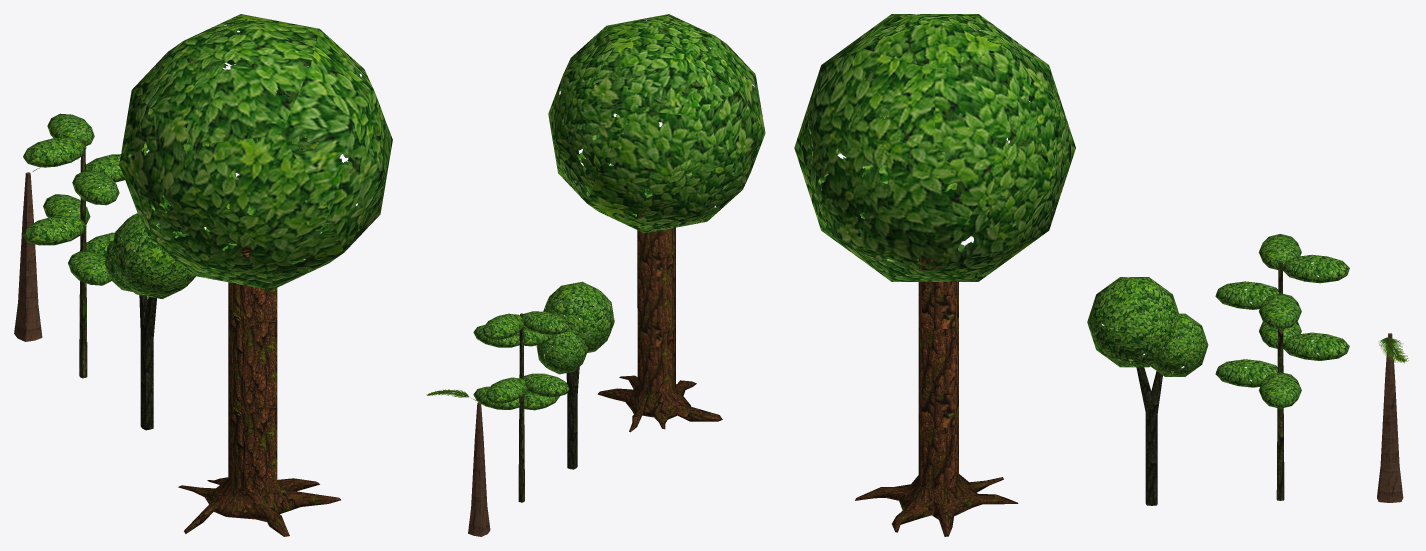
The model's file is props florest 2.fbx.
3 renders of one model, left to right at view 1: azimuth 30°, elevation 25°; view 2: azimuth 150°, elevation 25°; view 3: azimuth 270°, elevation 25°, orthographic. The views are drawn at different scales.
Parts seen in each view (by area): view 1: Icosphere.006, Cube.002, Icosphere.004, Cube.004, Icosphere.002, Icosphere.001, Cube.001, Icosphere.003, Icosphere, Cube.003, Icosphere.005; view 2: Icosphere.006, Cube.002, Icosphere.004, Cube.004, Icosphere.005, Icosphere.001, Icosphere, Icosphere.003, Icosphere.002, Cube.001, Cube.003; view 3: Icosphere.006, Cube.002, Icosphere.004, Icosphere.002, Icosphere.003, Cube.004, Icosphere.001, Icosphere.005, Cube.001, Icosphere, Cube.003.
Boxes of the visible parts, x1,y1,x2,y2 form: Icosphere.006: (119, 14, 392, 290); Cube.002: (178, 246, 340, 536); Icosphere.004: (111, 213, 195, 298); Cube.004: (14, 172, 42, 341); Icosphere.002: (47, 113, 119, 205); Icosphere.001: (23, 137, 128, 182); Cube.001: (139, 273, 156, 430); Icosphere.003: (43, 194, 111, 285); Icosphere: (23, 216, 114, 258); Cube.003: (79, 140, 87, 378); Icosphere.005: (104, 236, 157, 291); Icosphere.006: (548, 14, 765, 233); Cube.002: (597, 203, 722, 432); Icosphere.004: (543, 281, 614, 352); Cube.004: (468, 402, 490, 536); Icosphere.005: (536, 329, 587, 374); Icosphere.001: (473, 311, 569, 347); Icosphere: (473, 373, 569, 409); Icosphere.003: (486, 377, 559, 410); Icosphere.002: (482, 313, 554, 346); Cube.001: (566, 360, 579, 469); Cube.003: (518, 313, 524, 502); Icosphere.006: (794, 14, 1075, 281); Cube.002: (855, 248, 1018, 536); Icosphere.004: (1087, 277, 1179, 367); Icosphere.002: (1215, 254, 1349, 309); Icosphere.003: (1215, 332, 1349, 387); Cube.004: (1377, 333, 1403, 502); Icosphere.001: (1258, 234, 1301, 329); Icosphere.005: (1144, 313, 1208, 376); Cube.001: (1135, 361, 1162, 505); Icosphere: (1258, 321, 1301, 408); Cube.003: (1276, 261, 1284, 500).
Bounding box in the file's own units: 1575 × 3171 × 3629.
